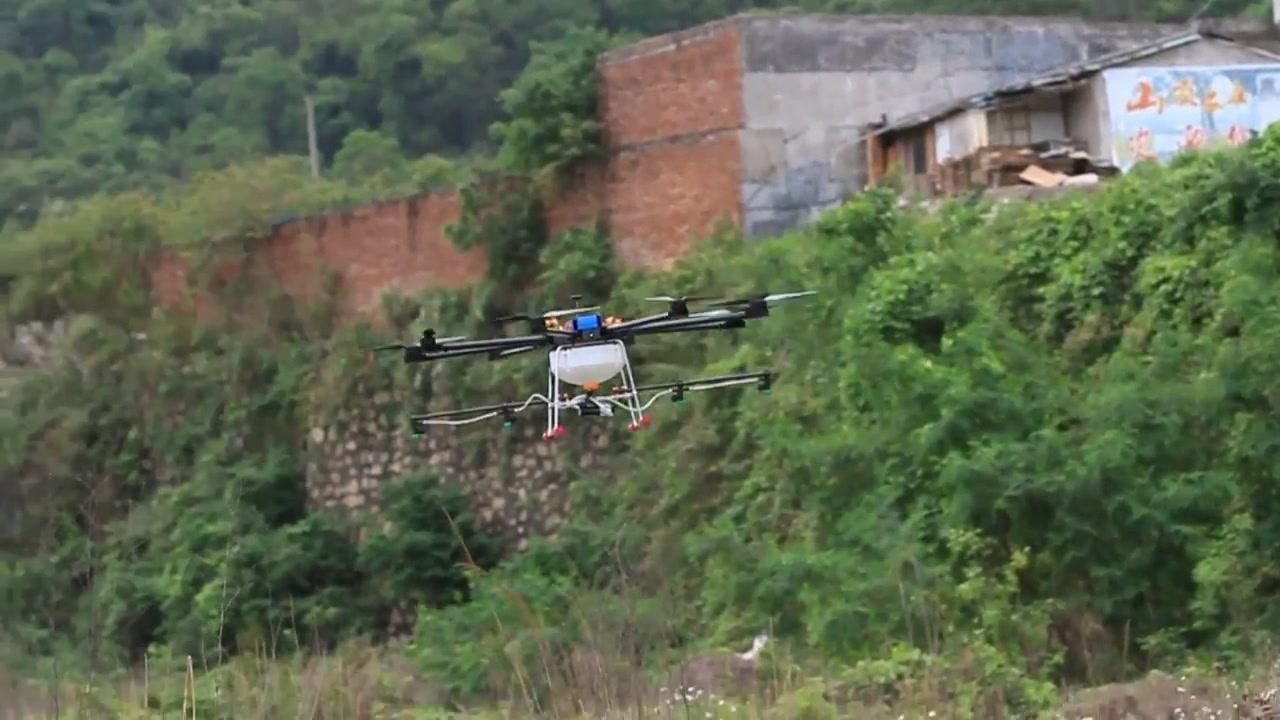UAV: (374, 292, 818, 441)
